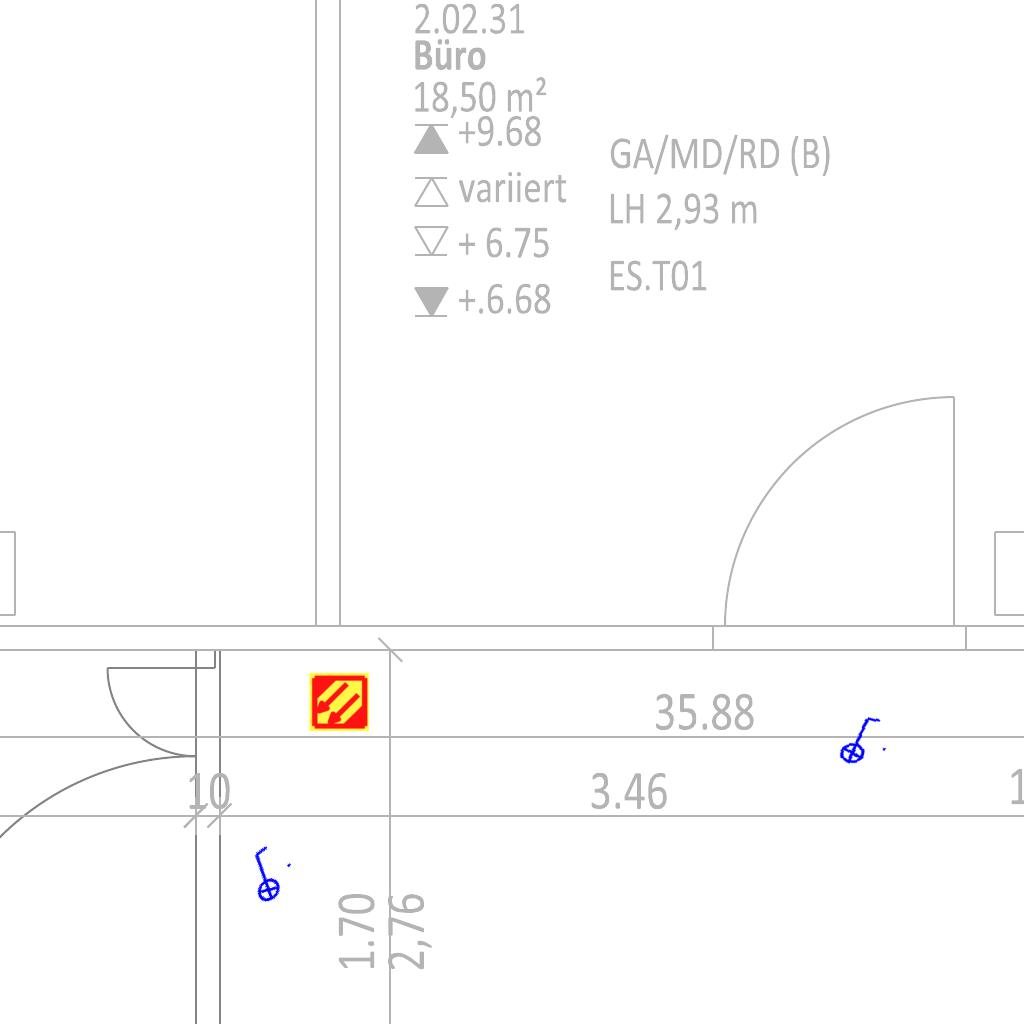ASR_Ansaugrauchmelder: (308, 671, 370, 733)
Ausschalter_beleuchtet: (227, 838, 301, 912), (827, 711, 891, 767)
